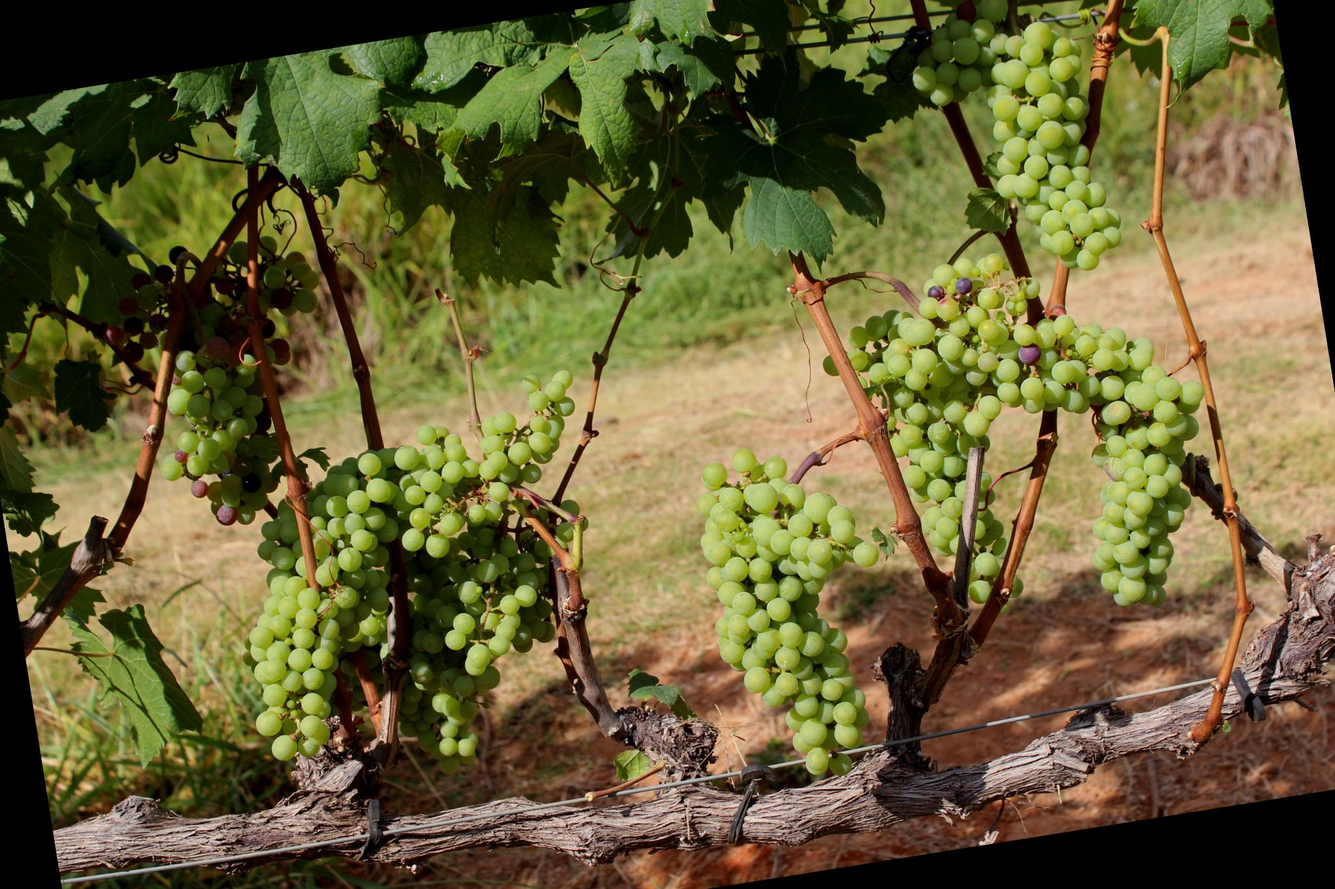Grape Unripe: (920, 223, 1233, 633), (687, 430, 912, 793), (95, 224, 351, 540), (817, 295, 1028, 621), (213, 446, 426, 763), (903, 0, 1127, 290), (374, 533, 582, 776), (384, 367, 596, 559)
